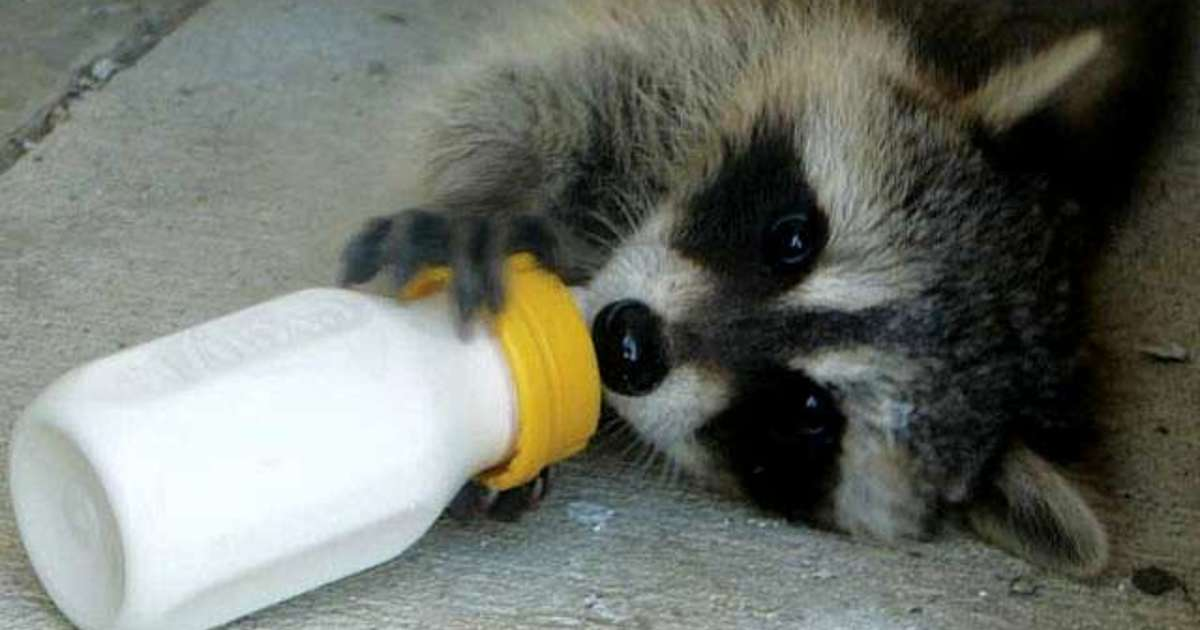raccoon: (389, 14, 1142, 630)
